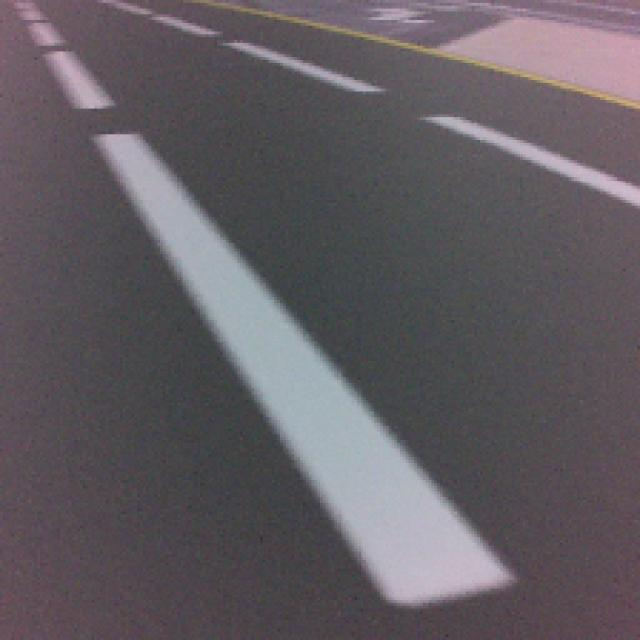Pedestrian crosswalk: (173, 235, 513, 600)
